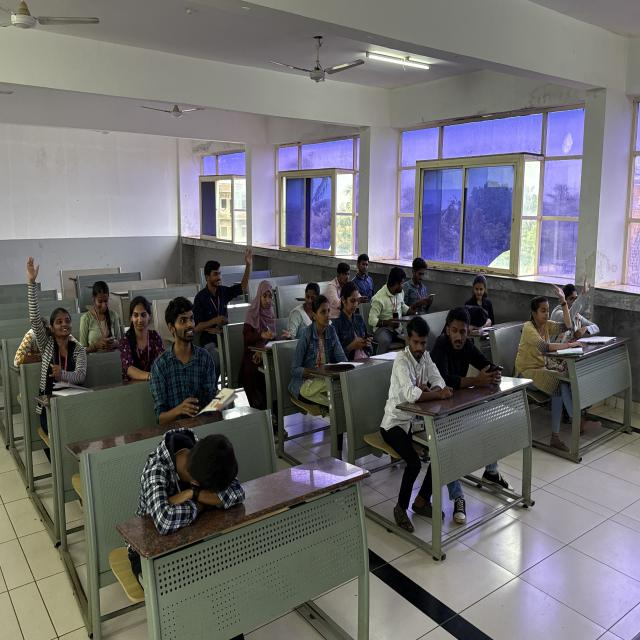Hand Rising: (24, 252, 89, 397), (200, 240, 257, 327), (569, 266, 600, 347), (547, 275, 577, 339)
Sleeping: (134, 424, 250, 526)
Using Phone: (433, 306, 508, 391), (80, 278, 126, 354), (336, 281, 380, 356), (374, 264, 412, 335), (405, 259, 439, 314)
Writing: (244, 278, 282, 361)
